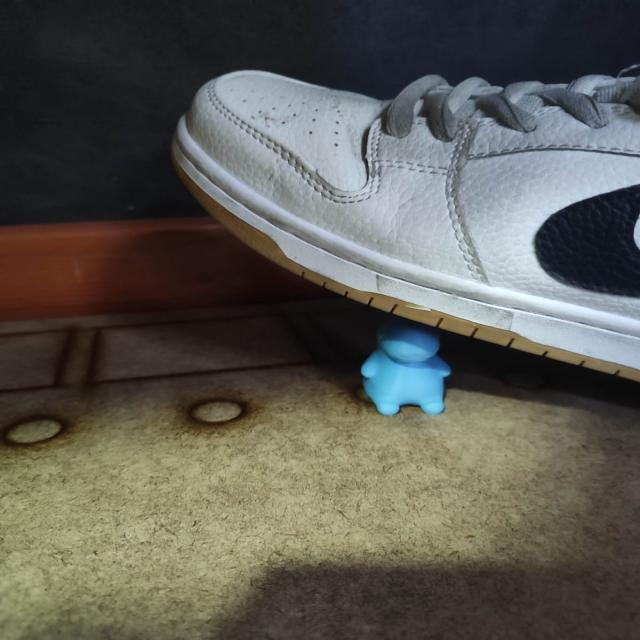DINO: (341, 300, 459, 421)
